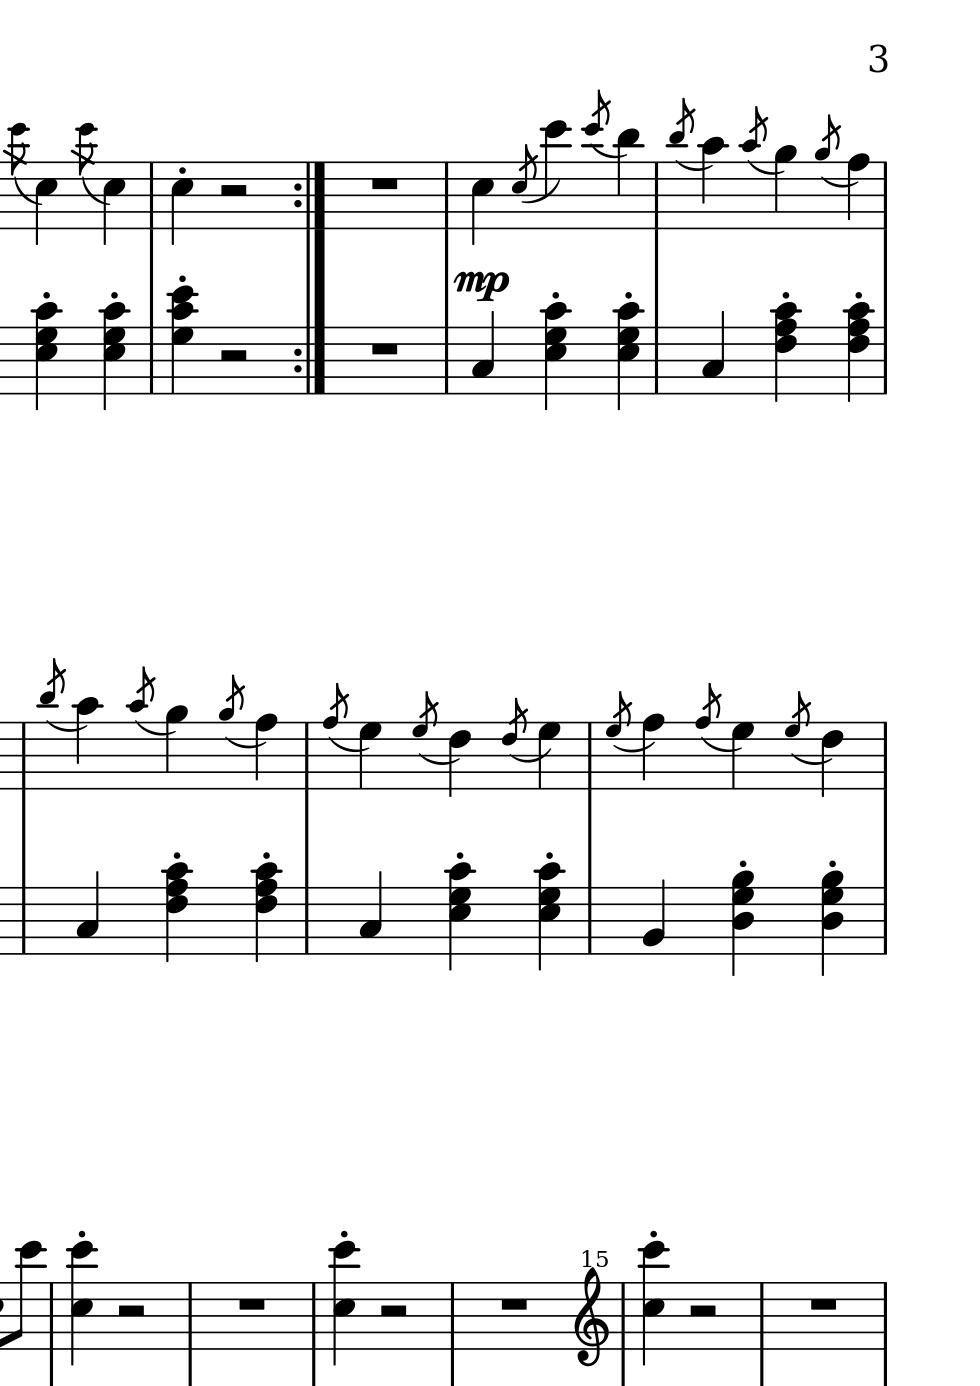3: (867, 42, 889, 75)
4_10: (698, 136, 730, 232), (74, 694, 101, 792)
4_11: (615, 128, 642, 231)
4_2: (642, 877, 666, 957)
4_3: (470, 310, 495, 394), (701, 308, 725, 394), (75, 869, 100, 955), (358, 869, 383, 955)
4_5: (169, 160, 195, 247), (469, 159, 494, 246), (33, 159, 58, 245), (102, 159, 126, 247)
4_5_12: (65, 1239, 99, 1366), (327, 1239, 361, 1366), (637, 1239, 671, 1366)
4_6: (447, 720, 472, 799), (820, 720, 843, 797)
4_7: (729, 721, 756, 792), (358, 721, 382, 790)
4_8: (845, 152, 872, 232), (253, 712, 279, 792)
4_9: (165, 703, 189, 792), (773, 144, 797, 230)
4_th: (539, 297, 572, 413), (165, 281, 197, 396), (443, 858, 475, 972), (532, 858, 564, 972), (98, 299, 129, 413), (611, 300, 643, 411), (31, 298, 62, 413), (727, 864, 756, 981), (840, 301, 873, 403), (769, 300, 800, 403), (249, 861, 280, 962), (161, 860, 191, 963), (818, 867, 845, 977)
8_12: (6, 1239, 42, 1353), (542, 119, 568, 232)
8_7: (536, 720, 560, 790)
8_8: (640, 712, 665, 792)
Acciaccature: (578, 86, 612, 234), (667, 101, 700, 231), (36, 659, 66, 789), (126, 668, 156, 792), (218, 676, 249, 791), (742, 104, 768, 233), (813, 115, 842, 227), (321, 682, 350, 790), (603, 689, 633, 788), (696, 681, 722, 791), (500, 695, 529, 791), (784, 690, 811, 790), (412, 690, 438, 790), (6, 121, 29, 233), (74, 120, 97, 231), (511, 144, 538, 230)
DHigh_Gclef: (571, 1244, 611, 1367)
Rests1: (233, 1294, 272, 1315), (496, 1294, 533, 1314), (365, 174, 402, 193), (804, 1295, 841, 1313), (366, 339, 402, 357)
Rests2: (215, 180, 253, 203), (684, 1300, 722, 1322), (375, 1301, 413, 1322), (113, 1302, 150, 1322), (215, 346, 251, 365)
RightRepeatSign: (288, 326, 330, 394), (290, 162, 329, 230)
Single_barline: (438, 161, 456, 230), (438, 327, 456, 394), (142, 162, 160, 229), (875, 722, 893, 789), (647, 327, 664, 394), (14, 887, 31, 954), (876, 888, 893, 955), (307, 1282, 323, 1350), (581, 723, 598, 790), (181, 1282, 198, 1349), (753, 1282, 770, 1349), (876, 1282, 893, 1349), (43, 1283, 60, 1350), (14, 723, 31, 789), (298, 724, 315, 790), (144, 326, 160, 394), (876, 161, 892, 229), (647, 165, 664, 229), (581, 888, 597, 955), (876, 328, 892, 394), (298, 888, 314, 954), (614, 1283, 630, 1350), (444, 1283, 460, 1349)
Slur: (8, 176, 43, 207), (134, 720, 176, 744), (78, 176, 109, 207), (667, 154, 710, 176), (523, 179, 560, 205), (46, 716, 88, 737), (225, 733, 268, 751), (746, 159, 782, 179), (327, 738, 368, 755), (418, 751, 463, 766), (512, 748, 553, 764), (675, 156, 712, 173), (792, 752, 834, 767), (702, 736, 738, 753), (615, 742, 659, 755), (591, 144, 623, 161), (821, 176, 855, 192)
mp: (452, 266, 513, 303)
